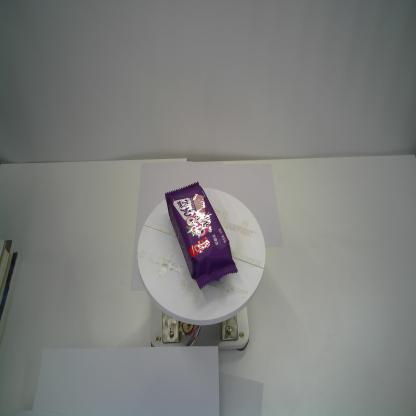Dessert: (164, 178, 238, 290)
